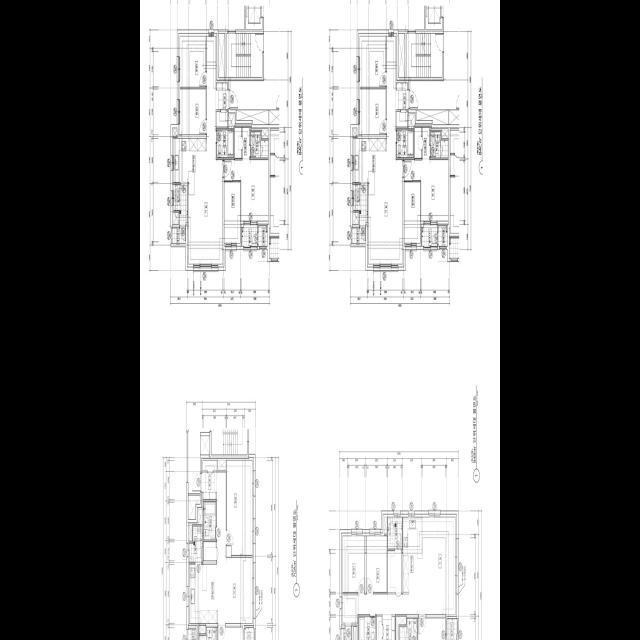background: (140, 0, 500, 640)
space_balconi: (354, 184, 368, 225), (174, 184, 188, 225), (189, 526, 203, 562), (388, 517, 402, 548), (422, 225, 437, 245), (242, 225, 257, 245), (447, 618, 457, 640), (245, 627, 254, 640)
space_bedroom: (404, 159, 448, 220), (224, 159, 268, 220), (227, 460, 252, 555), (360, 36, 386, 86), (180, 36, 206, 86), (343, 535, 365, 592), (366, 535, 387, 592), (360, 88, 386, 134), (180, 88, 206, 134), (418, 618, 445, 640), (218, 627, 243, 640)
space_dressroom: (415, 127, 430, 157), (235, 127, 250, 157)
space_front: (201, 460, 217, 499), (396, 82, 409, 109), (216, 82, 229, 109), (383, 614, 395, 640)
space_kitchen: (190, 563, 217, 623), (403, 517, 423, 594), (354, 138, 386, 182), (174, 138, 206, 182)
space_living_room: (343, 517, 455, 622), (369, 36, 403, 263), (189, 36, 223, 263), (217, 472, 252, 623)
space_multipurpose_space: (404, 182, 420, 243), (224, 182, 240, 243)
space_other: (388, 550, 402, 592), (417, 109, 449, 124), (237, 109, 269, 124), (398, 33, 405, 76), (218, 33, 225, 76), (188, 495, 200, 519), (203, 541, 216, 560), (396, 616, 406, 640), (352, 227, 366, 243), (172, 227, 186, 243), (200, 435, 210, 454), (397, 111, 408, 127), (217, 111, 228, 127), (341, 625, 352, 640), (377, 616, 382, 640), (188, 628, 196, 640), (408, 114, 414, 128), (228, 114, 234, 128), (218, 460, 226, 470), (198, 509, 203, 524), (353, 212, 359, 222), (353, 626, 357, 640), (199, 625, 206, 633), (442, 129, 448, 138), (262, 129, 268, 138), (384, 516, 387, 533), (189, 524, 192, 541), (174, 212, 179, 222), (353, 129, 357, 136), (173, 129, 177, 136)
space_outdoor_room: (438, 225, 447, 245), (258, 225, 267, 245)
space_staircase: (406, 33, 442, 76), (226, 33, 262, 76)
space_toilet: (203, 501, 216, 539), (397, 129, 414, 157), (217, 129, 234, 157), (430, 131, 448, 157), (251, 131, 268, 157), (359, 616, 376, 640), (399, 618, 417, 640), (199, 627, 217, 640)
